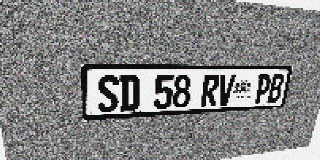5: (154, 75, 174, 109)
8: (172, 75, 192, 108)
B: (267, 74, 285, 103)
D: (119, 75, 140, 111)
P: (253, 74, 272, 104)
R: (200, 75, 220, 107)
S: (97, 75, 119, 113)
V: (216, 74, 236, 106)
